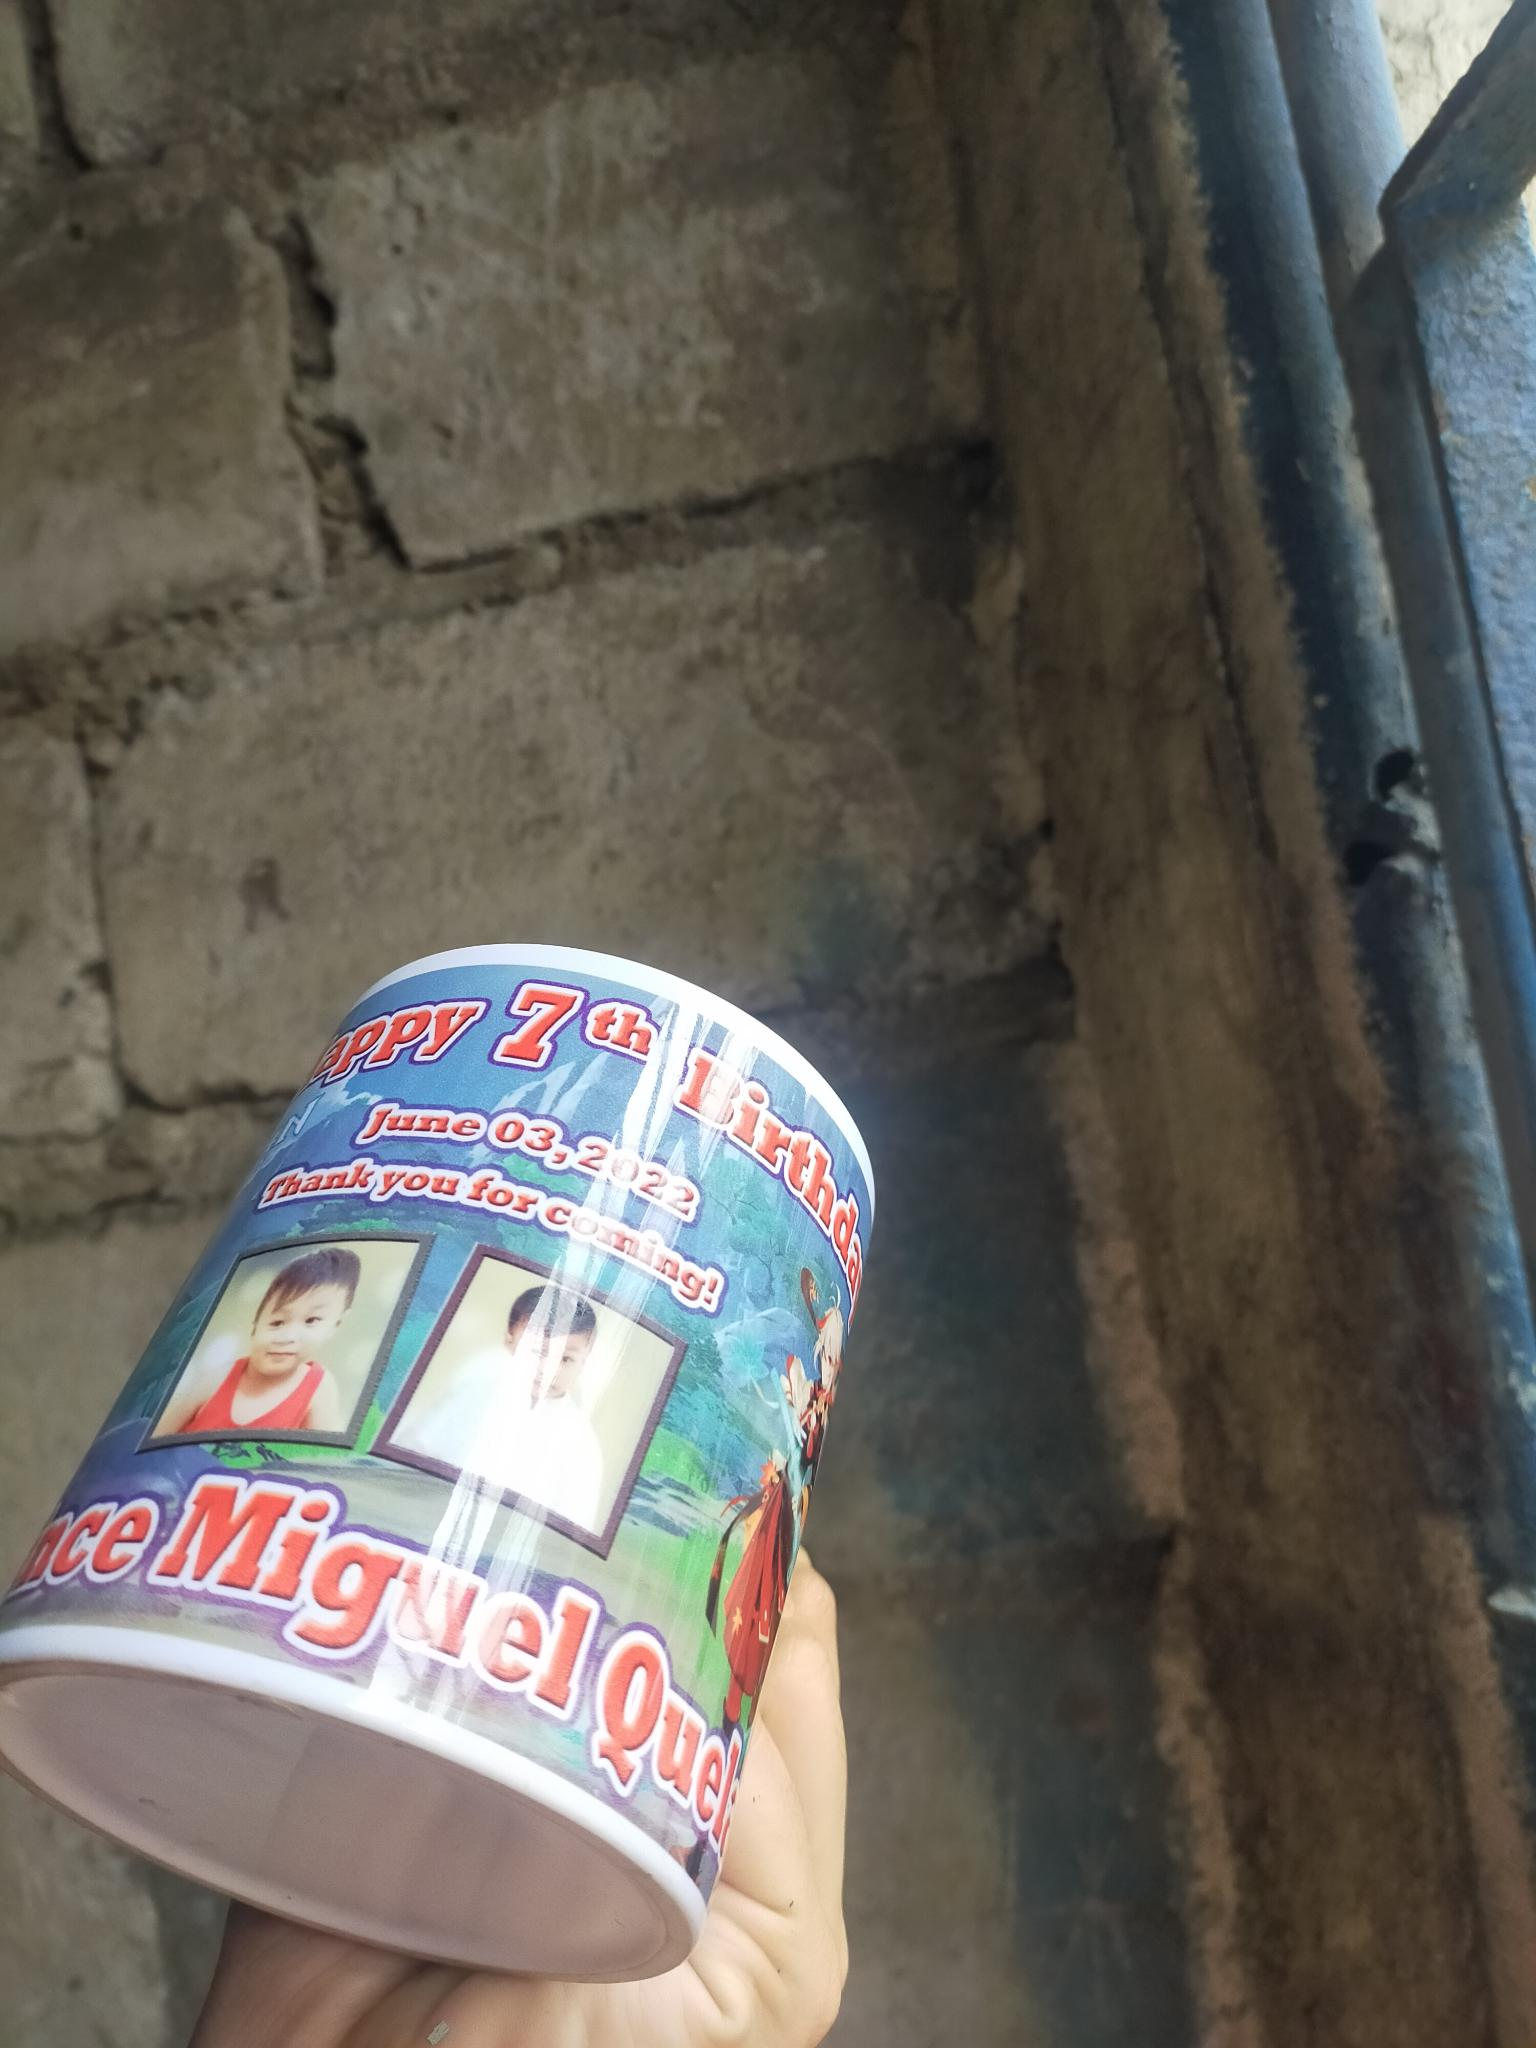Coffee Mug: (0, 945, 876, 1974)
